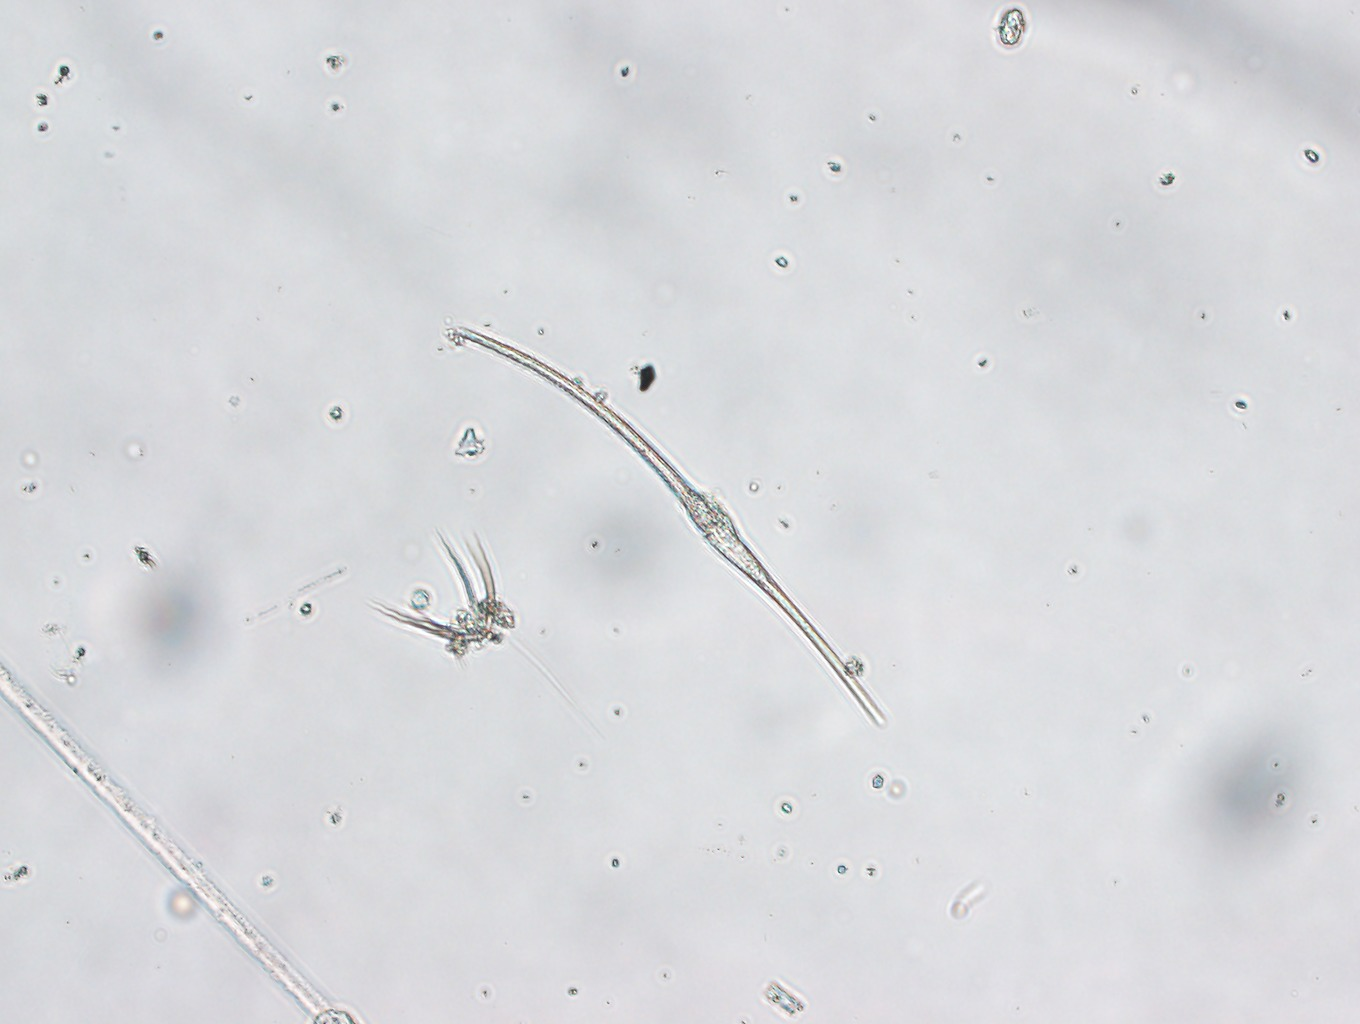ceratium fusus: (446, 323, 891, 733)
